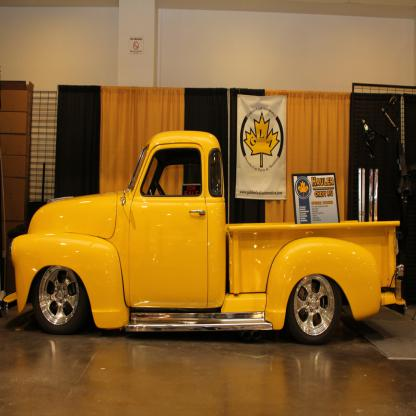Truck: (0, 129, 409, 345)
